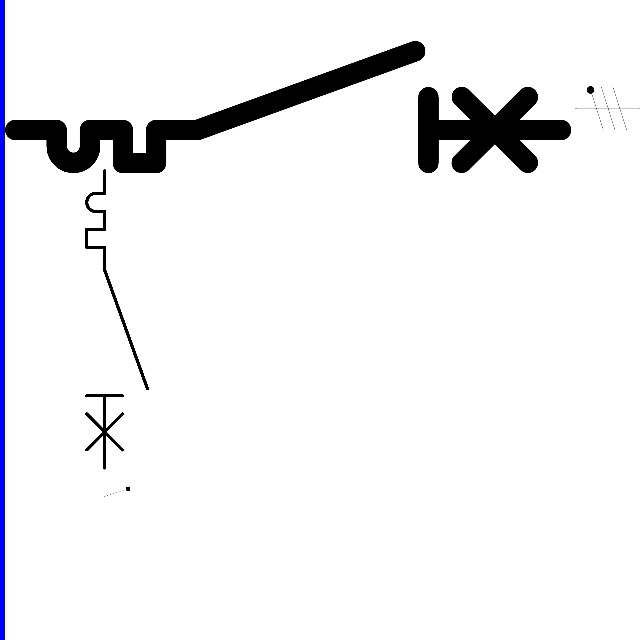interruptor_termomagnetico: (1, 37, 575, 177), (79, 163, 155, 476)
